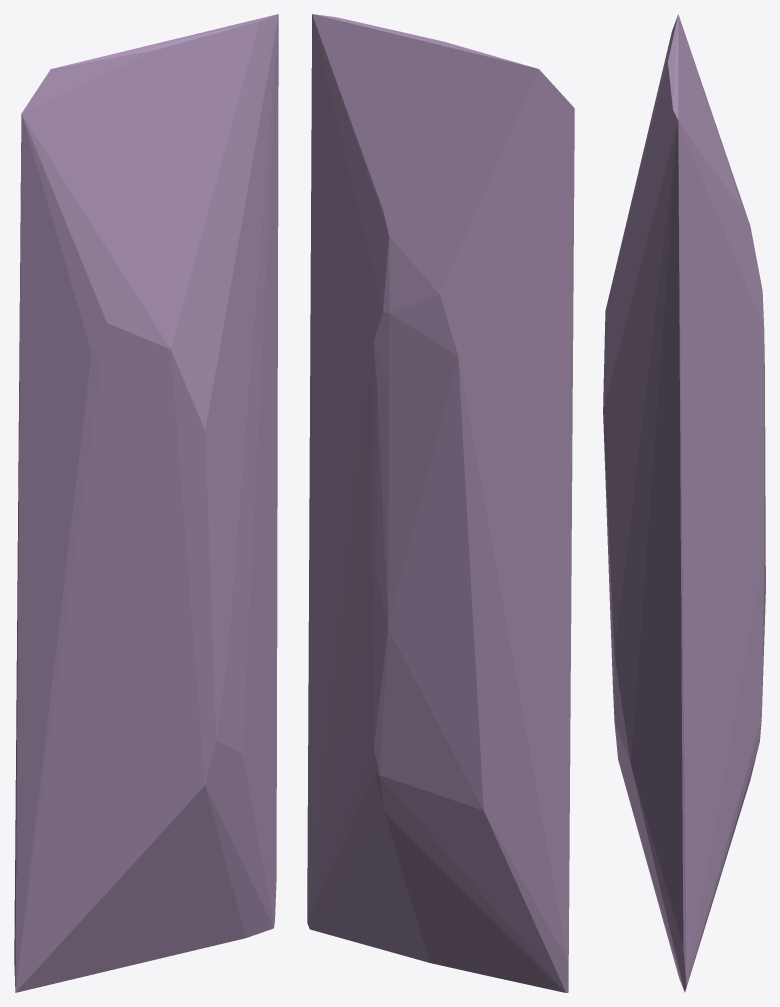
File: food_prepared_bar_e01.glb
3 renders of one model, left to right at view 1: azimuth 30°, elevation 25°; view 2: azimuth 150°, elevation 25°; view 3: azimuth 270°, elevation 25°, orthographic. The views are drawn at different scales.
Parts seen in each view (by area): view 1: geometry_0; view 2: geometry_0; view 3: geometry_0.
Boxes of the visible parts, x1,y1,x2,y2 form: geometry_0: (14, 14, 278, 992); geometry_0: (307, 14, 574, 992); geometry_0: (603, 14, 765, 992).
Size of the model in its own units: 0.1428 by 0.4797 by 0.081.
